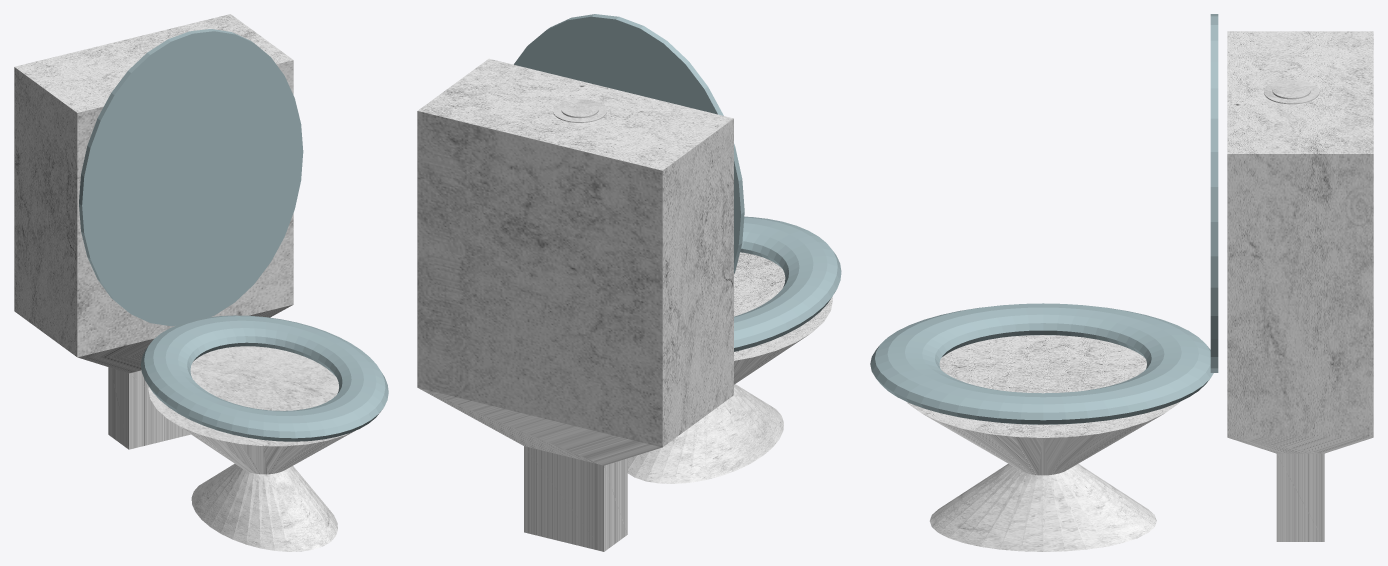
Rendered from privada.obj.
The picture shows the model from 3 angles, left to right: view 1: azimuth 30°, elevation 25°; view 2: azimuth 150°, elevation 25°; view 3: azimuth 270°, elevation 25°; orthographic projection. The views are drawn at different scales.
Visible parts, largest first — view 1: privada; view 2: privada; view 3: privada.
Part boxes in pixels (x1=…): privada: x1=14, y1=14, x2=388, y2=551; privada: x1=417, y1=14, x2=841, y2=551; privada: x1=870, y1=14, x2=1373, y2=551.
Bounding box in the file's own units: 4.05 × 7.49 × 6.88.
